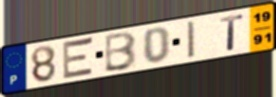0: (140, 25, 172, 66)
8: (29, 45, 57, 84)
B: (103, 30, 139, 74)
E: (61, 35, 95, 82)
I: (186, 19, 197, 60)
T: (219, 13, 246, 51)
